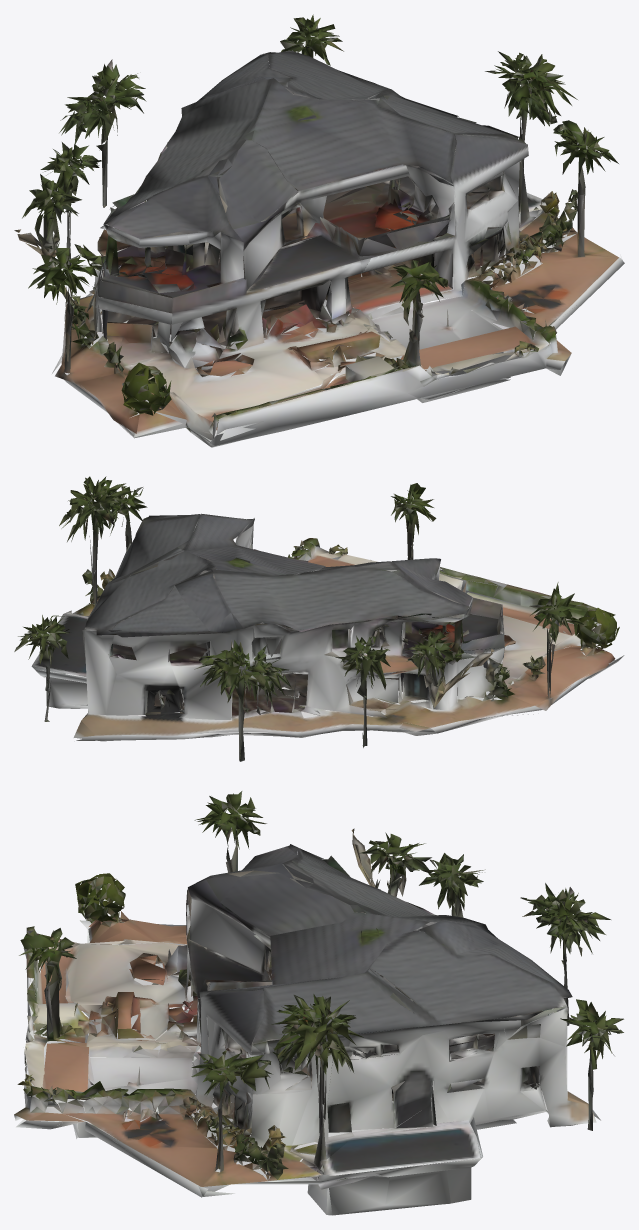
The model's file is Worldd498f43d89.glb.
3 views of the same model, one above another, from view 1: azimuth 30°, elevation 25°; view 2: azimuth 150°, elevation 25°; view 3: azimuth 270°, elevation 25° (orthographic). The views are drawn at different scales.
Parts seen in each view (by area): view 1: Worldd498f43d89; view 2: Worldd498f43d89; view 3: Worldd498f43d89.
Boxes of the visible parts, box(x1,y1,x2,y2) form: Worldd498f43d89: box(14, 14, 624, 447); Worldd498f43d89: box(14, 476, 624, 761); Worldd498f43d89: box(14, 791, 623, 1215).
Size of the model in its own units: 7.01 by 2.56 by 6.44.
Materials: 1 (1 with a texture image).
